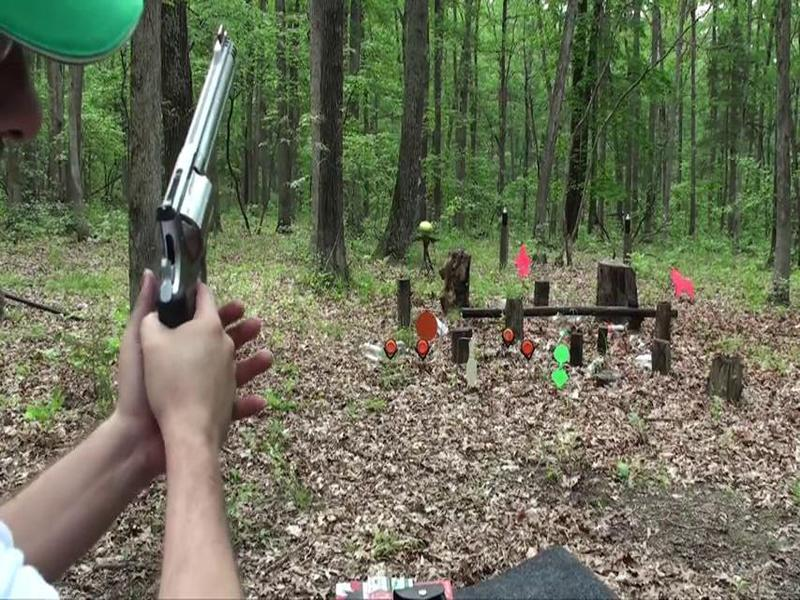Revolver: (147, 55, 275, 348)
